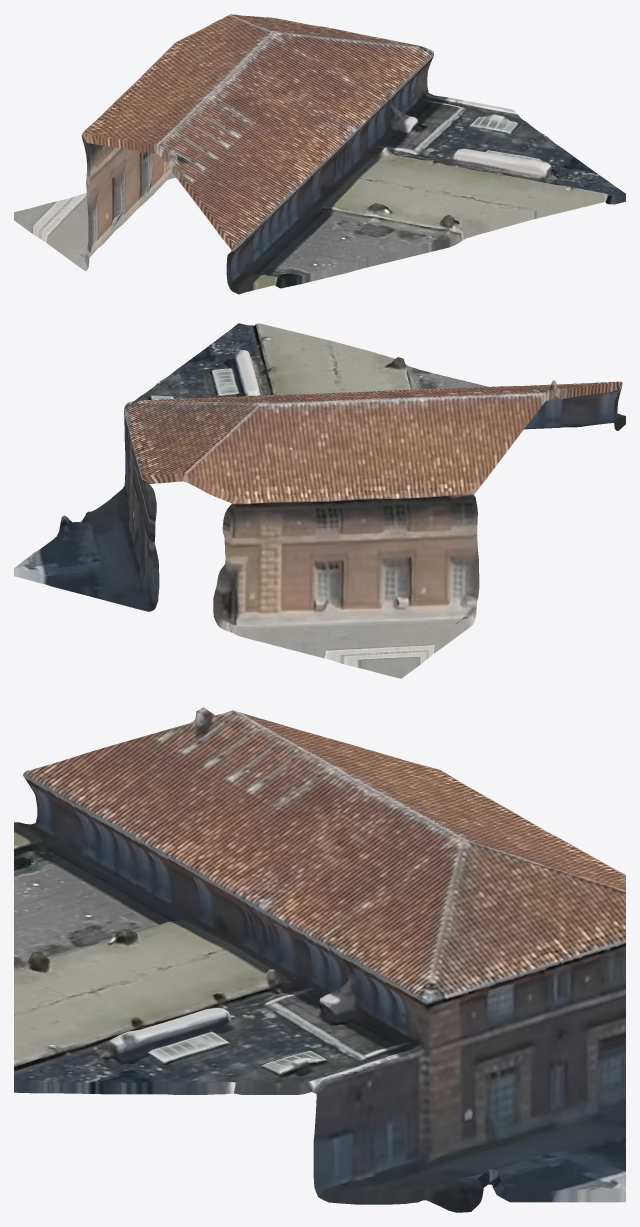
Rendered from z20-167794-405225-h0-yup-uvflip-v3-world.glb.
3 views of the same model, one above another, from view 1: azimuth 30°, elevation 25°; view 2: azimuth 150°, elevation 25°; view 3: azimuth 270°, elevation 25° (orthographic). The views are drawn at different scales.
Bounding box in the file's own units: 30.16 × 13.72 × 30.32.
Materials: 1 (1 with a texture image).
